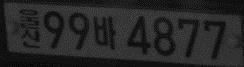4: (126, 15, 151, 54)
7: (203, 18, 227, 59), (177, 17, 200, 56)
8: (152, 15, 176, 56)
9: (42, 9, 66, 48), (68, 11, 90, 50)
바: (93, 15, 117, 50)
울산_V: (19, 7, 42, 49)
